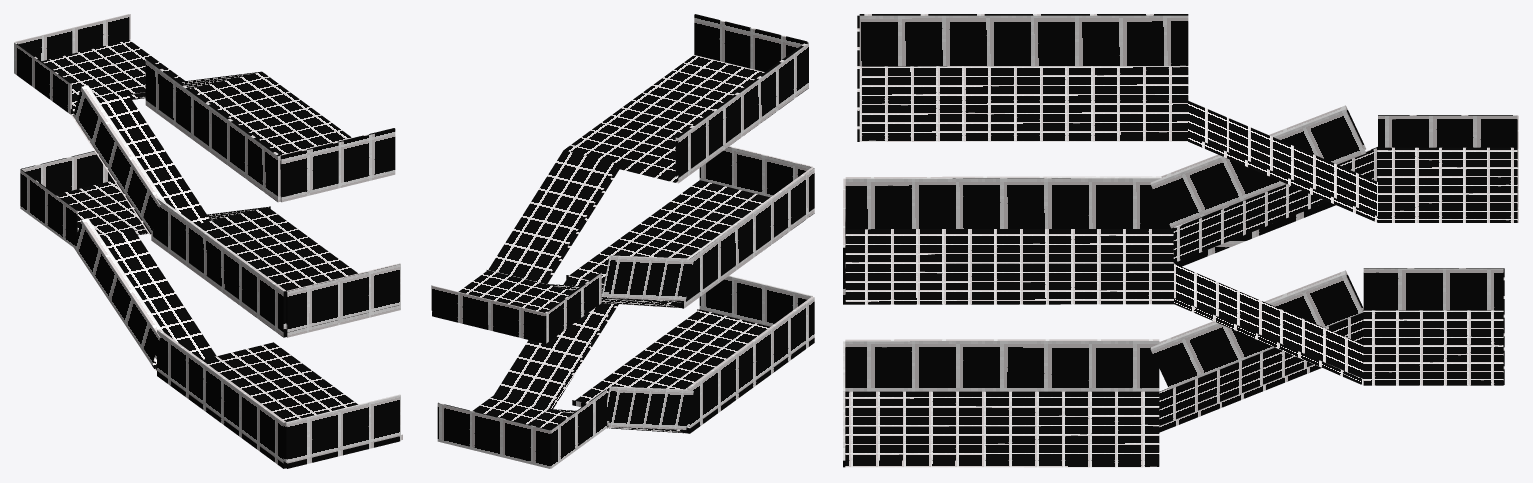
Rendered from BGN_BUILDING STAIRS.fbx.
The picture shows the model from 3 angles, left to right: view 1: azimuth 30°, elevation 25°; view 2: azimuth 150°, elevation 25°; view 3: azimuth 270°, elevation 25°; orthographic projection. The views are drawn at different scales.
Parts seen in each view (by area): view 1: Cube__14_, Cube__162_, Cube__164_, Cube__163_; view 2: Cube__14_, Cube__162_, Cube__164_, Cube__163_; view 3: Cube__14_, Cube__162_, Cube__164_, Cube__163_.
Boxes of the visible parts, <box> form: Cube__14_: <box>20,151,402,468</box>; Cube__162_: <box>14,14,395,237</box>; Cube__164_: <box>73,85,165,233</box>; Cube__163_: <box>73,218,163,365</box>; Cube__14_: <box>437,146,814,468</box>; Cube__162_: <box>431,14,808,343</box>; Cube__164_: <box>602,255,693,300</box>; Cube__163_: <box>607,386,693,429</box>; Cube__14_: <box>843,176,1504,467</box>; Cube__162_: <box>857,14,1518,266</box>; Cube__164_: <box>1150,105,1365,228</box>; Cube__163_: <box>1150,270,1363,389</box>.
Size of the model in its own units: 204 by 501 by 802.
1 material, 1 textured.
